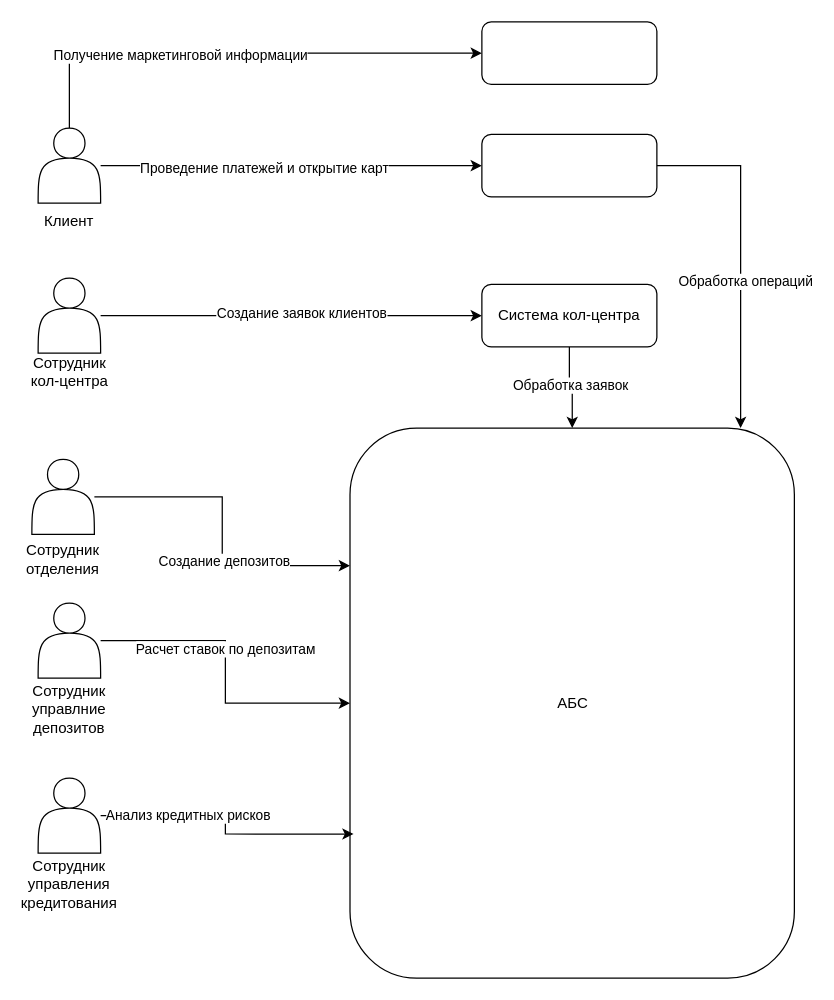
Image size: 834x1000. Some labels were removed from this diagram. Each missing label, with the centre of its shape:
Интернет-банк: the point at 569,165
Сайт: the point at 569,52
